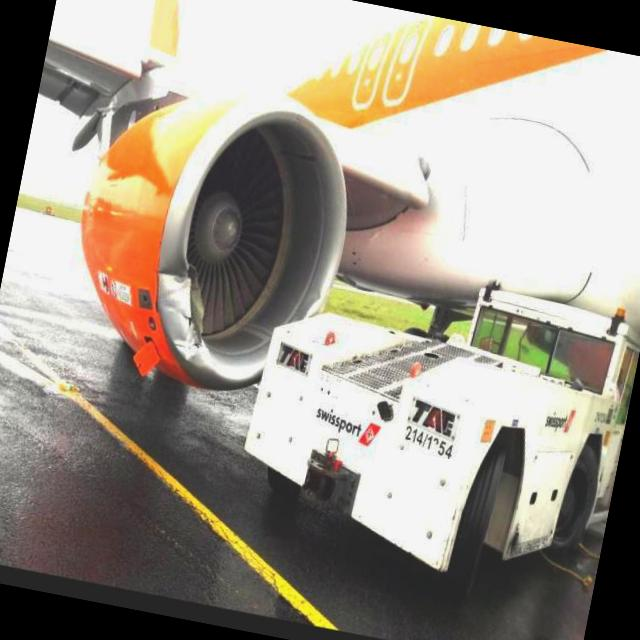crack: (170, 262, 220, 352)
dent: (154, 263, 192, 307), (169, 328, 202, 364), (305, 285, 332, 322)
